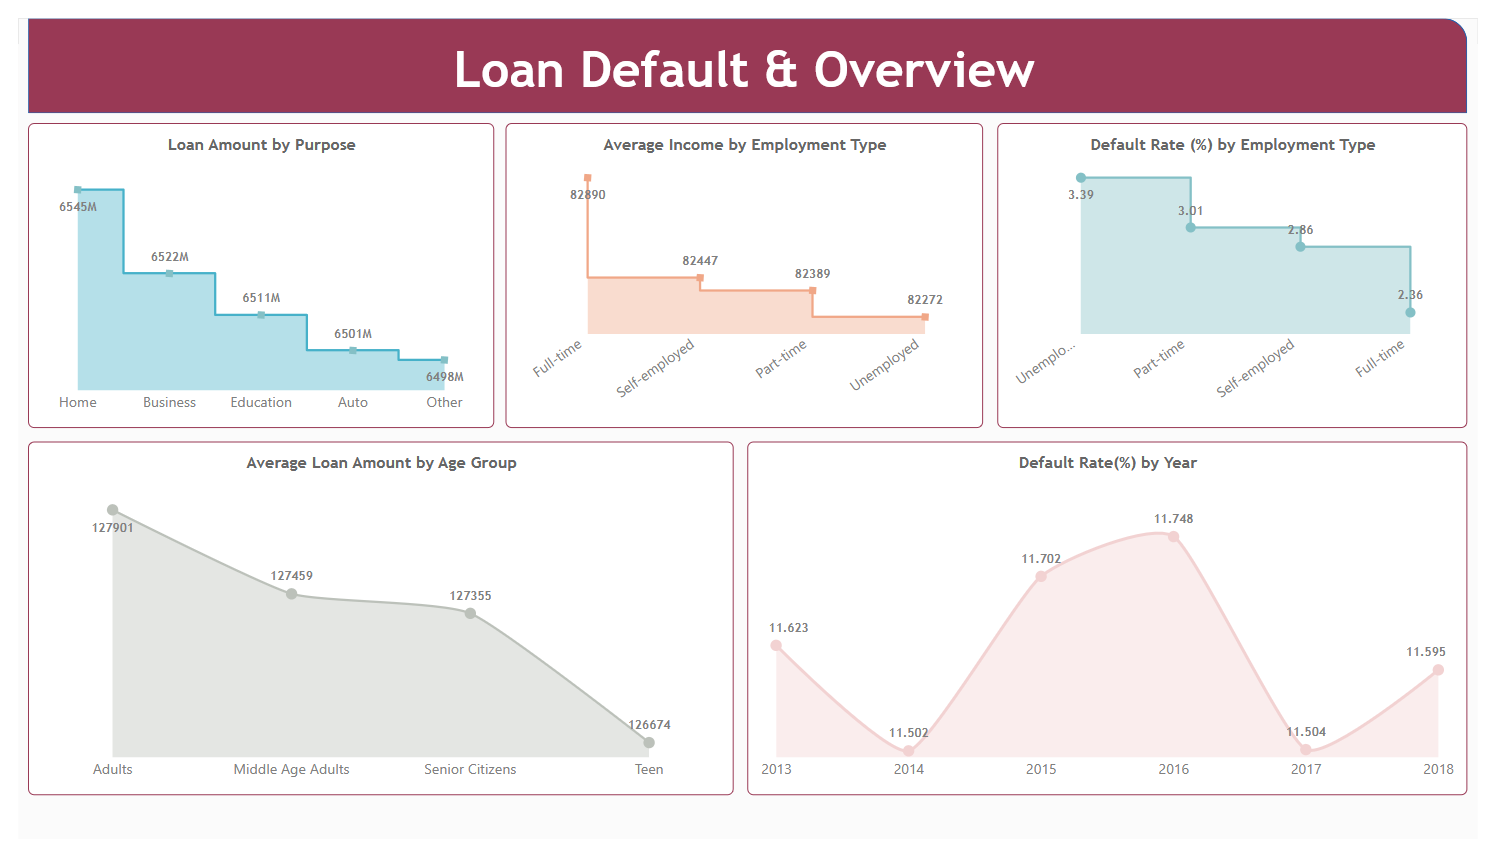

The dashboard page shown, as its layout file describes it:
{"tool":"powerbi","page":{"name":"Overview Page","canvas":[1920,1080],"ordinal":0},"visuals":[{"type":"shape","box":[12.7,0,1892.9,124.9],"z":0},{"type":"lineChart","title":"Loan Amount by Purpose","fields":{"Category":["Loan_default.LoanPurpose"],"Y":["MeasuresTable1.Loan Amount by purpose"]},"box":[12.7,137.5,613.5,401.7],"z":1000},{"type":"lineChart","title":"Average Income by Employment Type","fields":{"Category":["Loan_default.EmploymentType"],"Y":["MeasuresTable1.Average Income by Employment Type"]},"box":[640.6,137.5,628,401.7],"z":2000},{"type":"lineChart","title":"Default Rate (%) by Employment Type","fields":{"Category":["Loan_default.EmploymentType"],"Y":["MeasuresTable1.Default Rate by Employment Type"]},"box":[1288.5,137.5,617.1,401.7],"z":3000},{"type":"lineChart","title":"Average Loan Amount by Age Group","fields":{"Category":["Loan_default.Age Group"],"Y":["MeasuresTable1.Average Loan by Age Group"]},"box":[12.7,557.4,928.4,465.1],"z":4000},{"type":"lineChart","title":"Default Rate(%) by Year","fields":{"Category":["Loan_default.Year"],"Y":["MeasuresTable1.Default Rate by Year"]},"box":[959.1,557.4,946.5,465.1],"z":5000}]}

Visuals, with their boxes in screenshot pixels (x1, y1, x2, y2), scaled from the page's 1920x1080 canvas onto the 1495x851 screenshot:
shape: {"left": 10, "top": 0, "right": 1484, "bottom": 98}
"Loan Amount by Purpose" lineChart: {"left": 10, "top": 108, "right": 488, "bottom": 425}
"Average Income by Employment Type" lineChart: {"left": 499, "top": 108, "right": 988, "bottom": 425}
"Default Rate (%) by Employment Type" lineChart: {"left": 1003, "top": 108, "right": 1484, "bottom": 425}
"Average Loan Amount by Age Group" lineChart: {"left": 10, "top": 439, "right": 733, "bottom": 806}
"Default Rate(%) by Year" lineChart: {"left": 747, "top": 439, "right": 1484, "bottom": 806}
